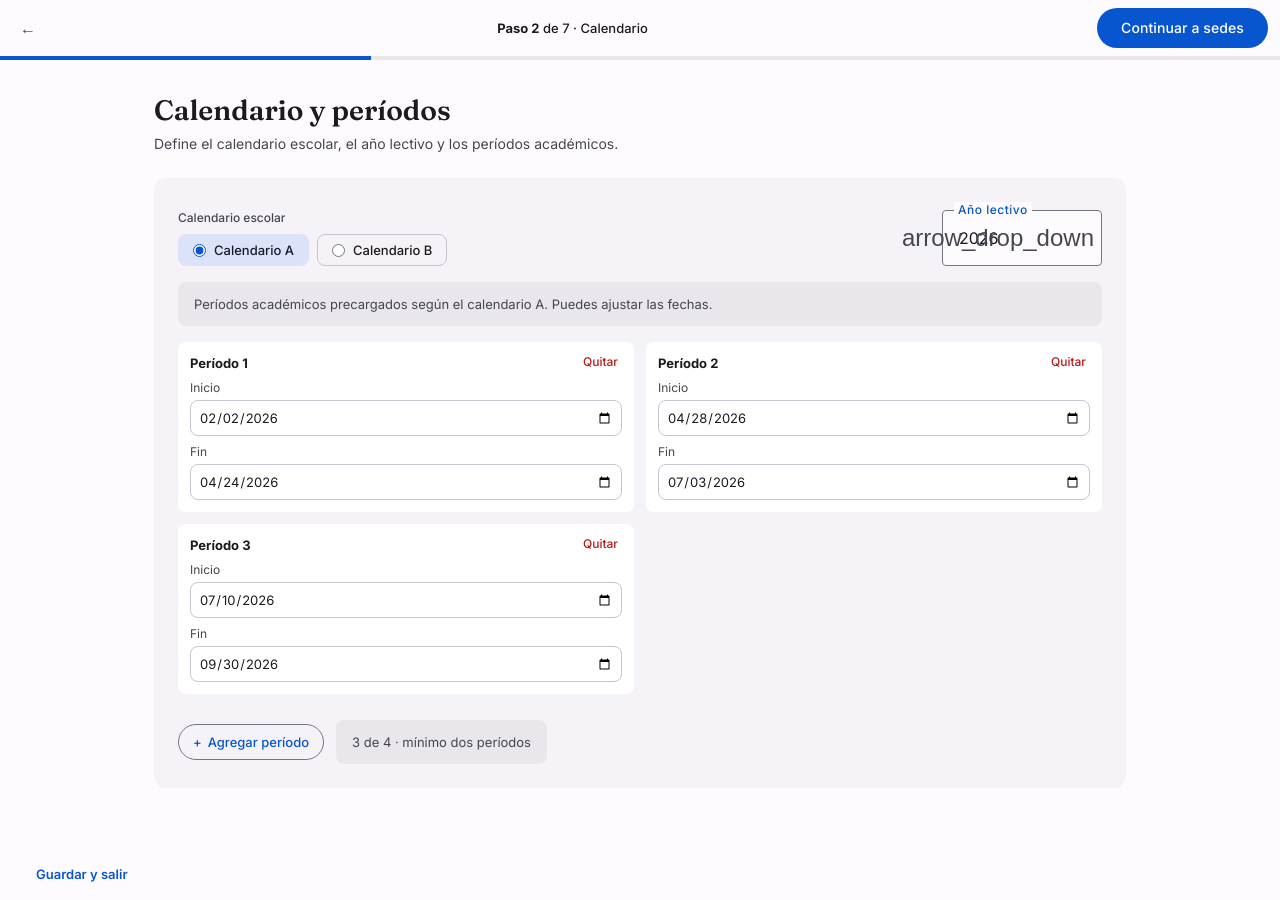
Test: Onboarding · paso 1 (identidad) › quita un período y renumera el resto para no dejar huecos
The image size is (1280, 900).
expect the radio button labelled "Calendario A" is shown: met, box [193,244,206,256]
Step 1. Click the button with aria-label "quitar el período 2" → (1068, 362), box [1043,350,1094,374]
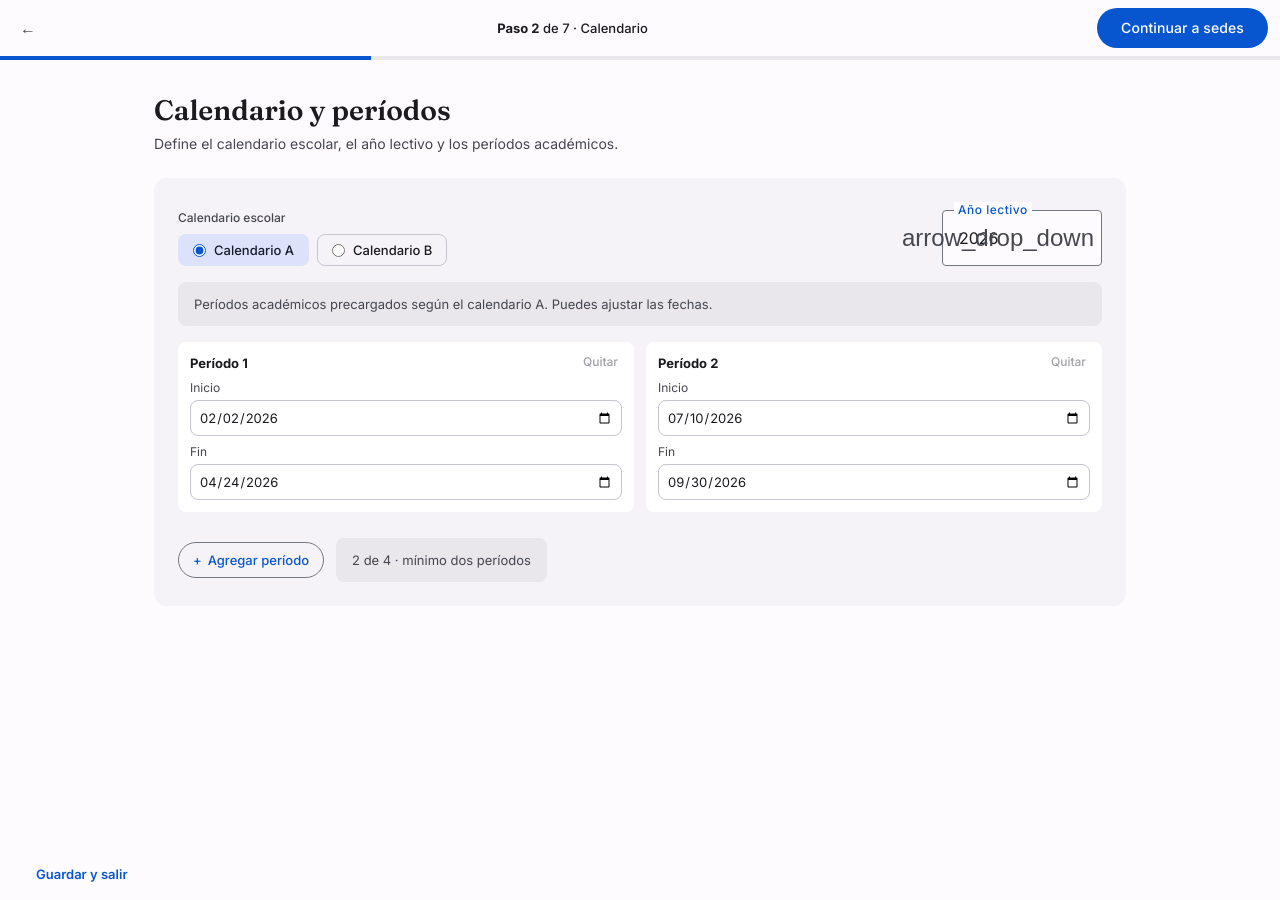
expect the text "2 de 4 · mínimo dos períodos" is shown: met, box [336,538,547,582]
expect the text "Período 3" is gone: met
expect the button with aria-label "quitar el período" is disabled: met, box [575,350,626,374]
